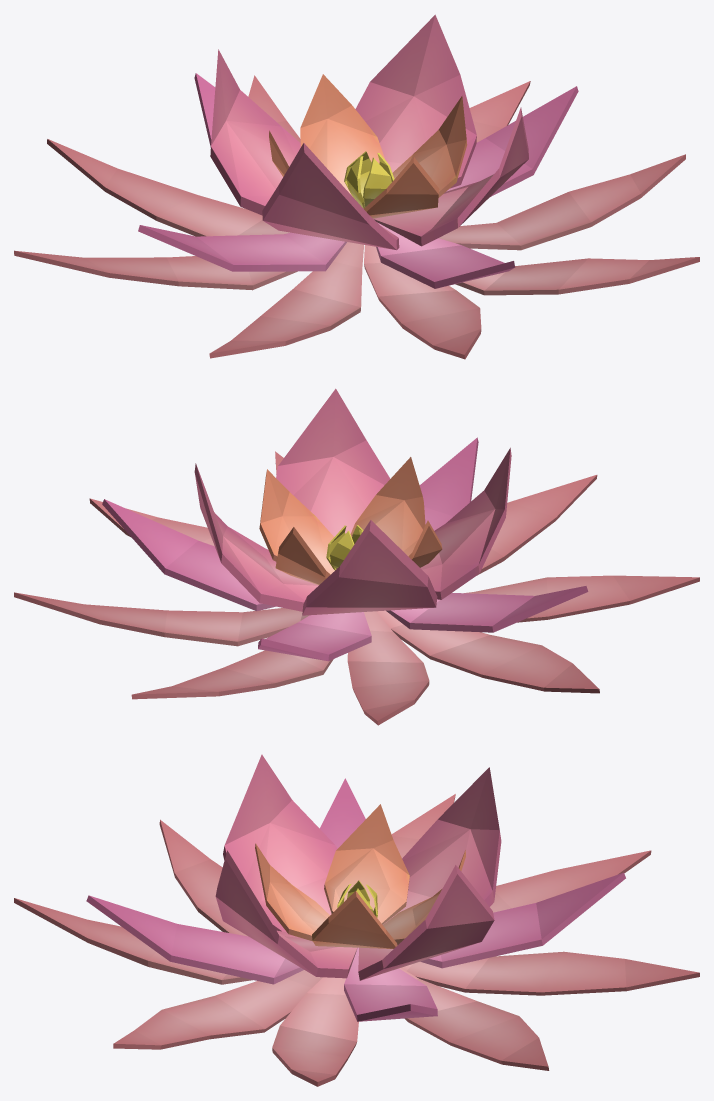
File: lotus.glb
3 views of the same model, one above another, from view 1: azimuth 30°, elevation 25°; view 2: azimuth 150°, elevation 25°; view 3: azimuth 270°, elevation 25° (orthographic). The views are drawn at different scales.
Visible parts, largest first — view 1: Lotus.000; view 2: Lotus.000; view 3: Lotus.000.
Part boxes in pixels (x1,y1,x2,y2): Lotus.000: (14, 14, 699, 359); Lotus.000: (14, 388, 699, 725); Lotus.000: (14, 754, 699, 1086).
Bounding box in the file's own units: 0.5444 × 0.1574 × 0.5452.
Materials: 1 (1 with a texture image).
